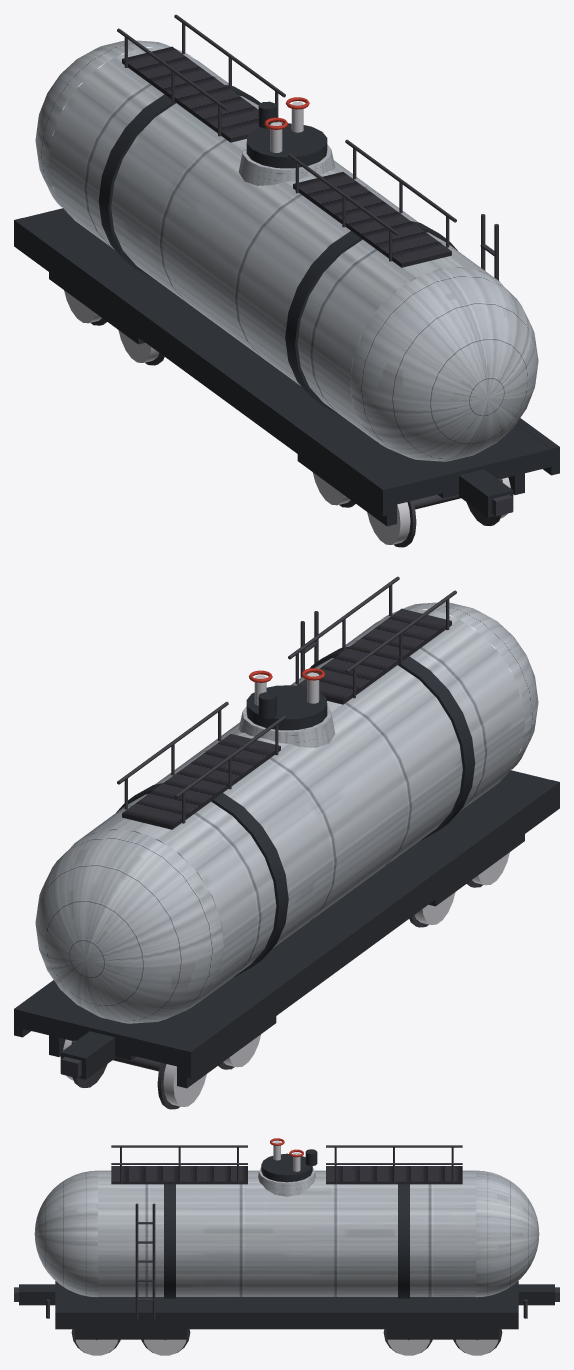
The model's file is vagao.glb.
3 renders of one model, top to bottom at view 1: azimuth 30°, elevation 25°; view 2: azimuth 150°, elevation 25°; view 3: azimuth 270°, elevation 25°, orthographic. The views are drawn at different scales.
Size of the model in its own units: 5.42 by 8.82 by 22.4.
6 materials, 2 textured.
